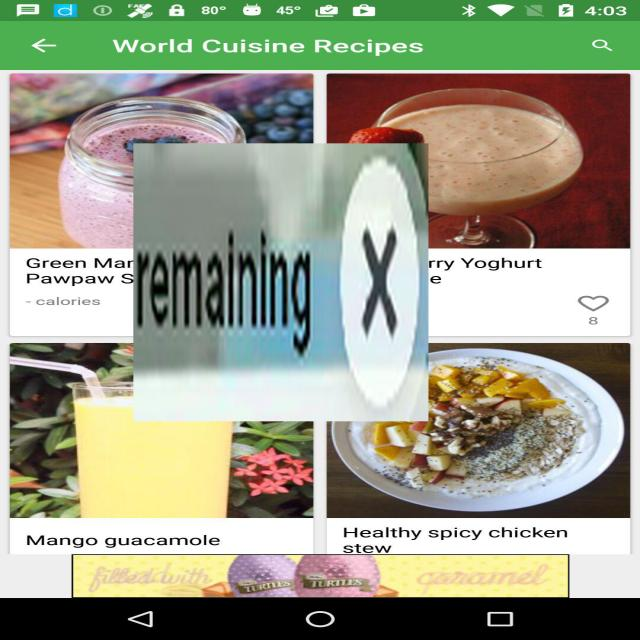misdirection: (134, 144, 428, 422)
